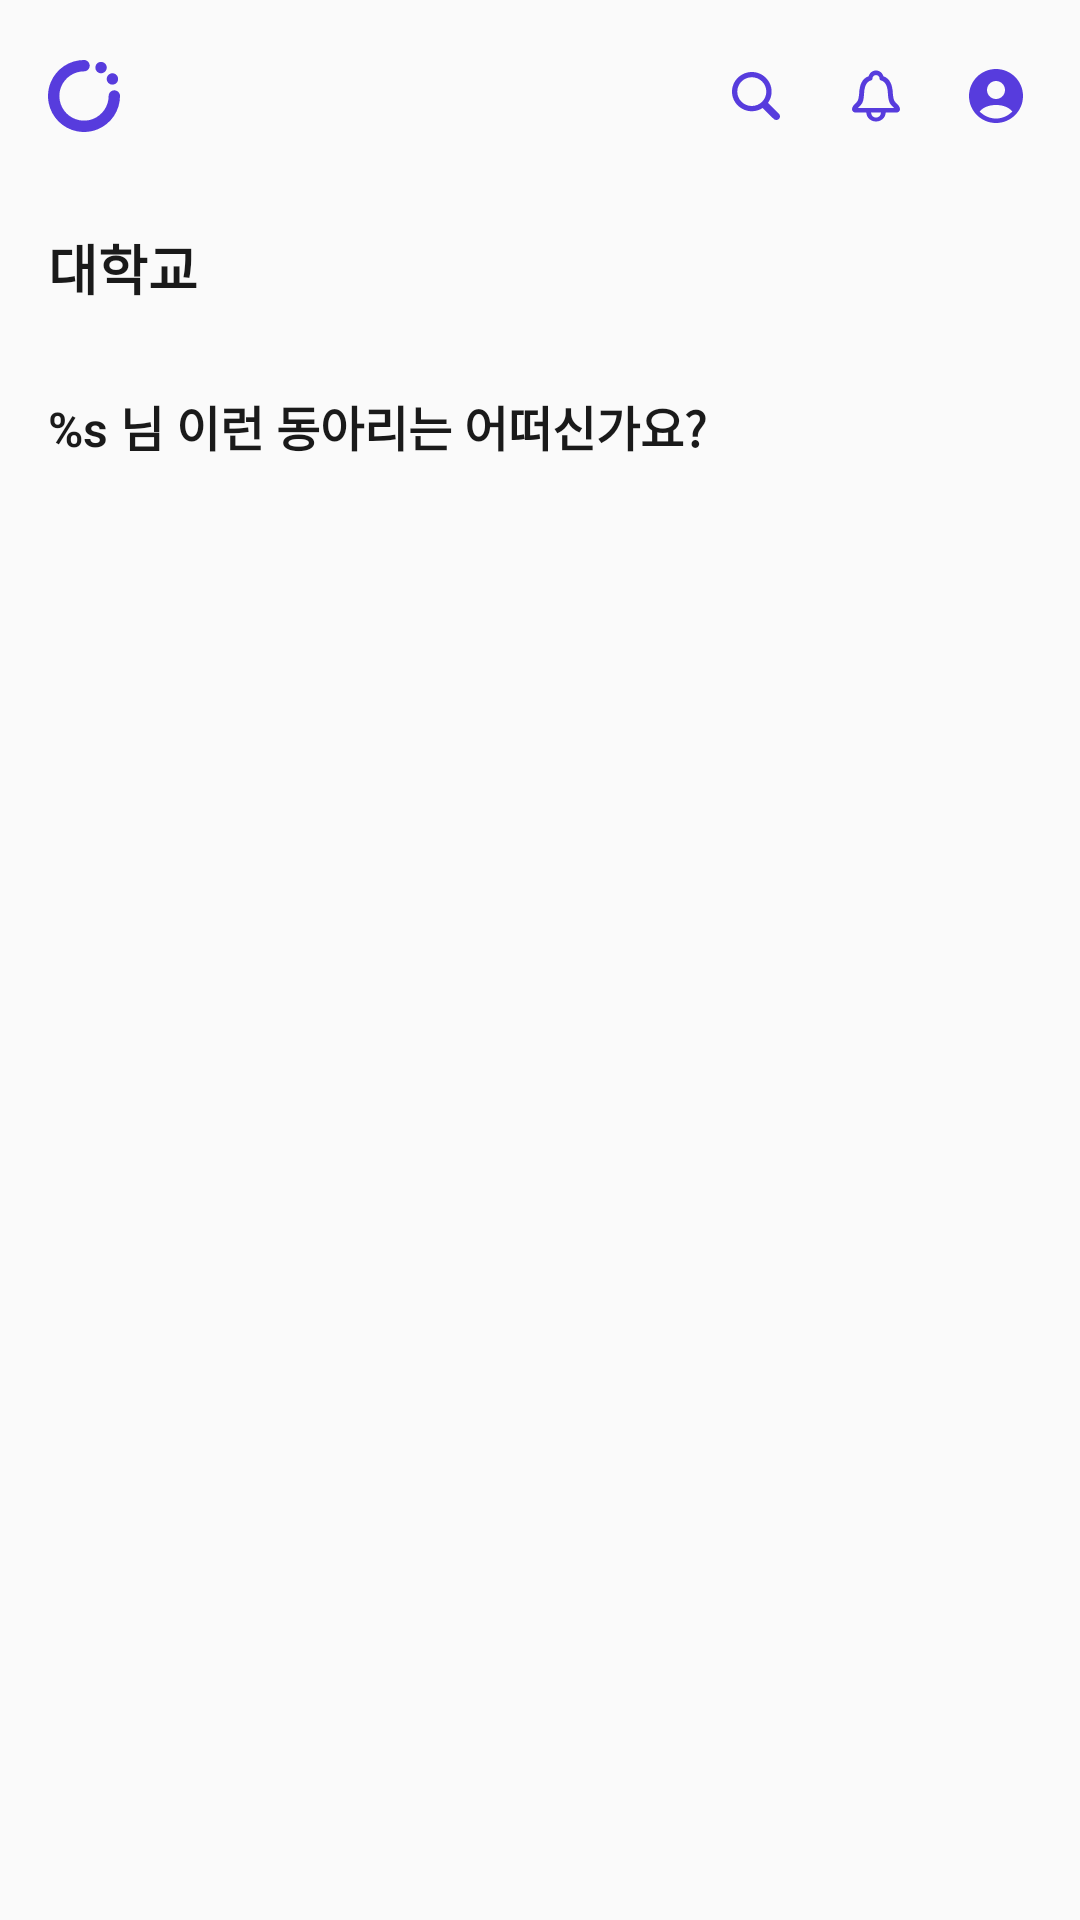

Screen size 1080 × 1920. Icon name, then its box in pixels as (x1, y1, x2, y2):
notification: (852, 70, 900, 122)
profile: (969, 69, 1023, 123)
search: (732, 72, 780, 120)
